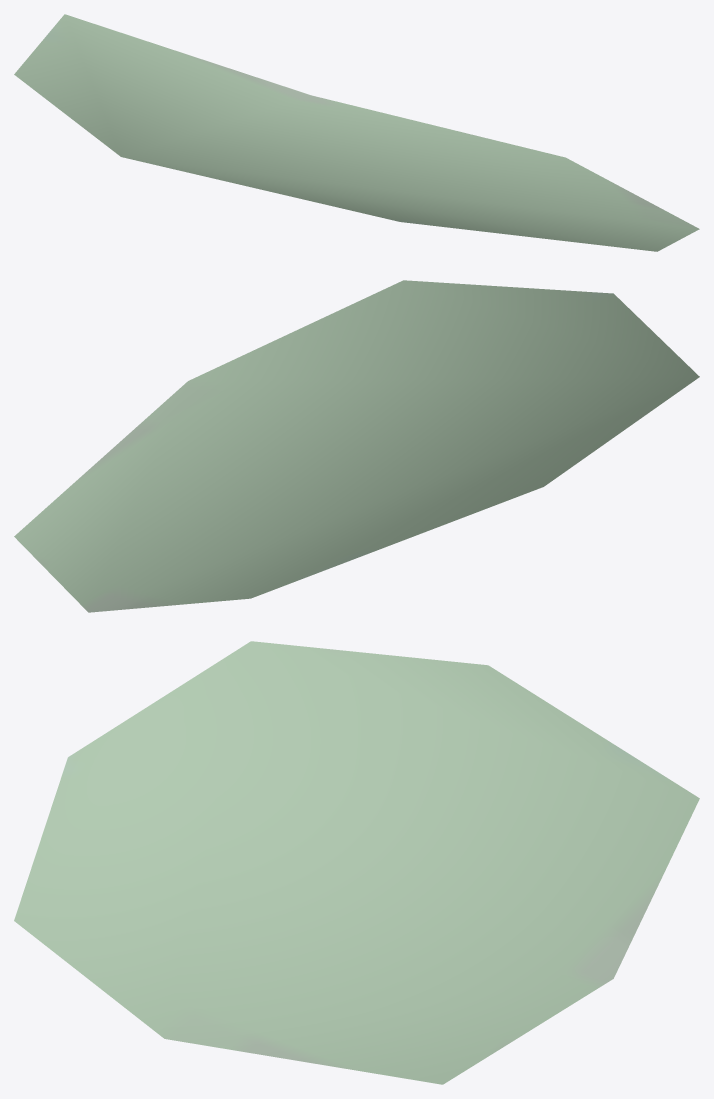
The model's file is TROLLHOLE02_HOLECAP175.fbx.
The picture shows the model from 3 angles, top to bottom: view 1: azimuth 30°, elevation 25°; view 2: azimuth 150°, elevation 25°; view 3: azimuth 270°, elevation 25°; orthographic projection. The views are drawn at different scales.
Parts seen in each view (by area): view 1: TROLLHOLE02_HOLECAP175; view 2: TROLLHOLE02_HOLECAP175; view 3: TROLLHOLE02_HOLECAP175.
Boxes of the visible parts, bbox=[...] form: TROLLHOLE02_HOLECAP175: bbox=[14, 14, 699, 251]; TROLLHOLE02_HOLECAP175: bbox=[14, 280, 699, 612]; TROLLHOLE02_HOLECAP175: bbox=[14, 641, 699, 1084].
Size of the model in its own units: 20957 by 7665 by 24435.
1 material, 1 textured.
